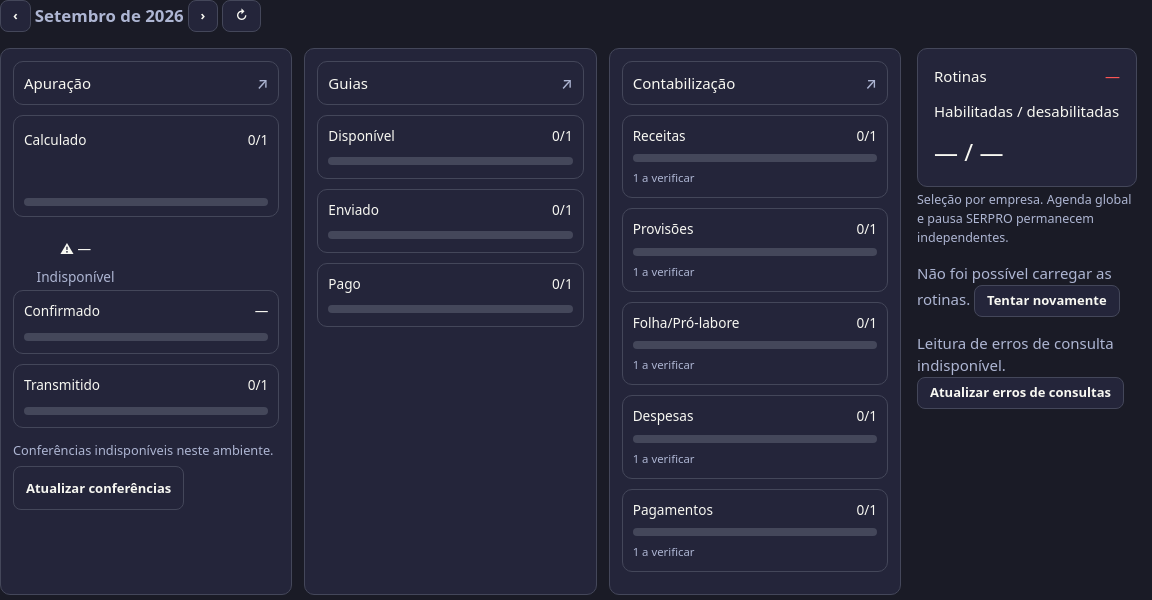
Test case: manual INSS opens existing guide modal with compact summary and configuration link
The image size is (1152, 600).
Click the button "Disponível 0/1" at (362, 136), box [317,115,584,179]
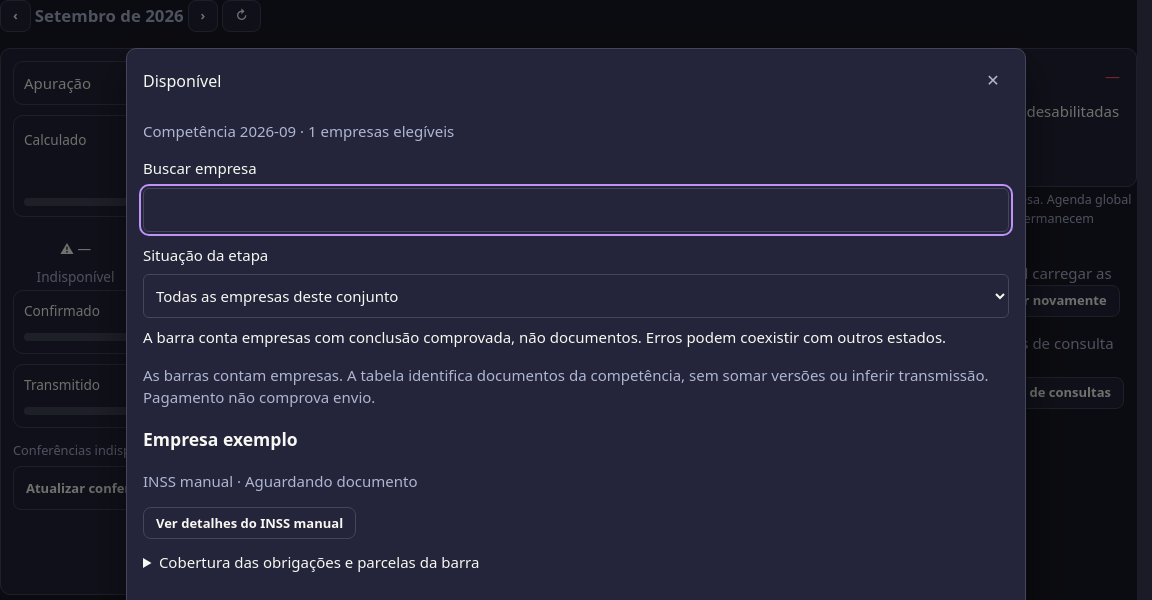
Click the button "Ver detalhes do INSS manual" at (250, 523), box [143,507,356,539]
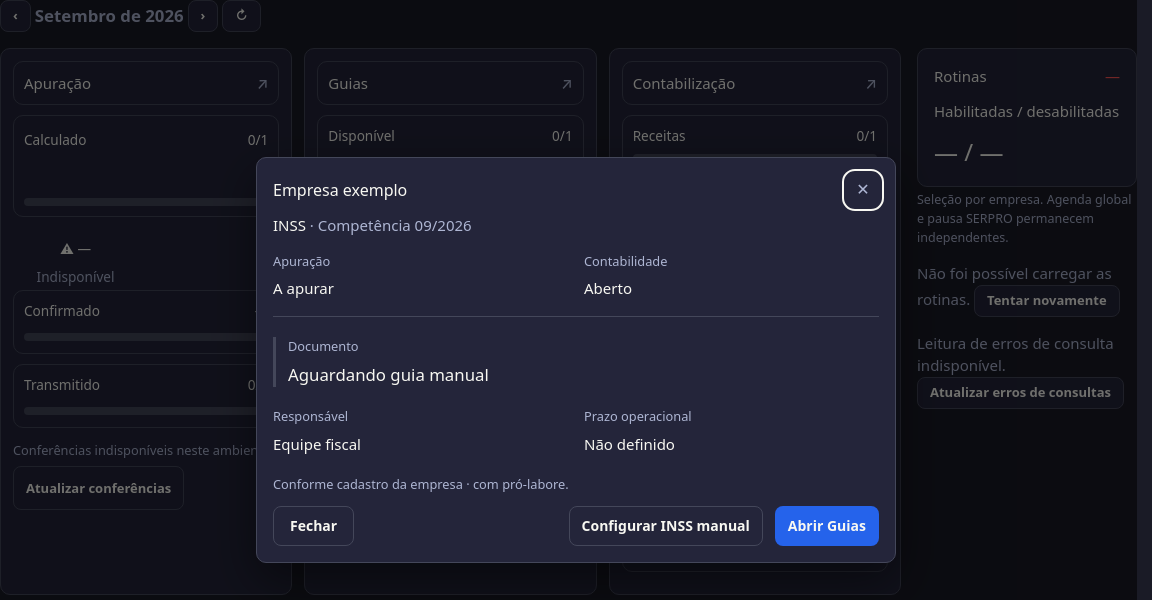
Check: the text "Equipe fiscal" is shown, box [273,434,361,454]
